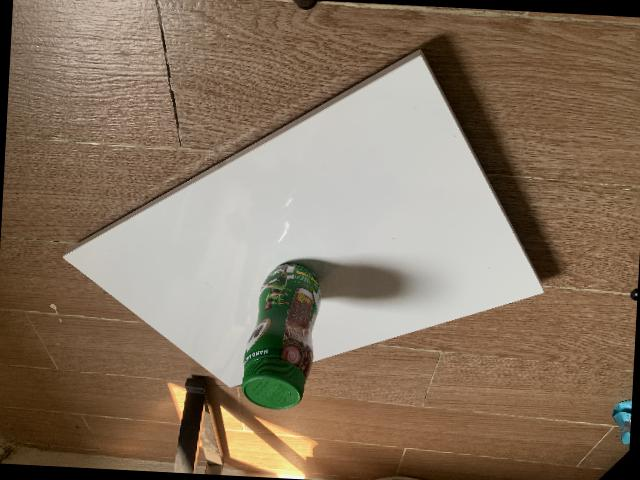milo: (240, 261, 321, 409)
